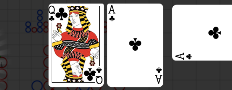AC: (174, 52, 194, 61), (108, 5, 117, 23)
